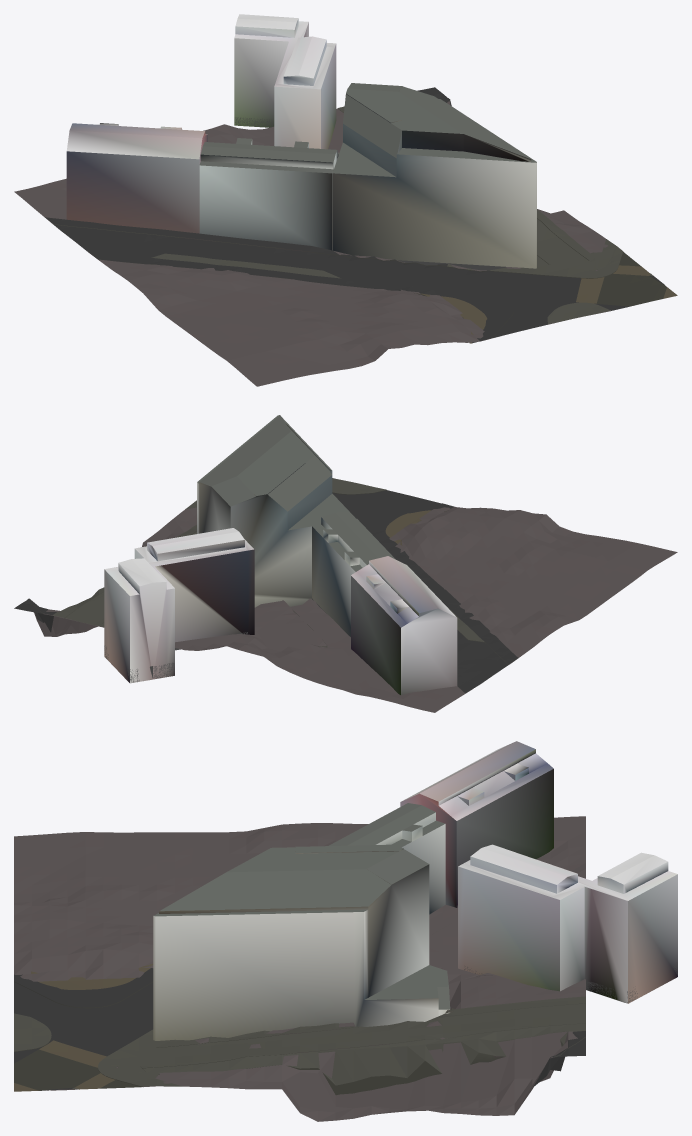
3 renders of one model, top to bottom at view 1: azimuth 30°, elevation 25°; view 2: azimuth 150°, elevation 25°; view 3: azimuth 270°, elevation 25°, orthographic. The views are drawn at different scales.
Parts seen in each view (by area): view 1: c_m02_m11; view 2: c_m02_m11; view 3: c_m02_m11.
Boxes of the visible parts, x1=… form: c_m02_m11: x1=14, y1=14, x2=677, y2=386; c_m02_m11: x1=14, y1=415, x2=677, y2=712; c_m02_m11: x1=14, y1=741, x2=677, y2=1121.
Bounding box in the file's own units: 128 × 44.72 × 149.
